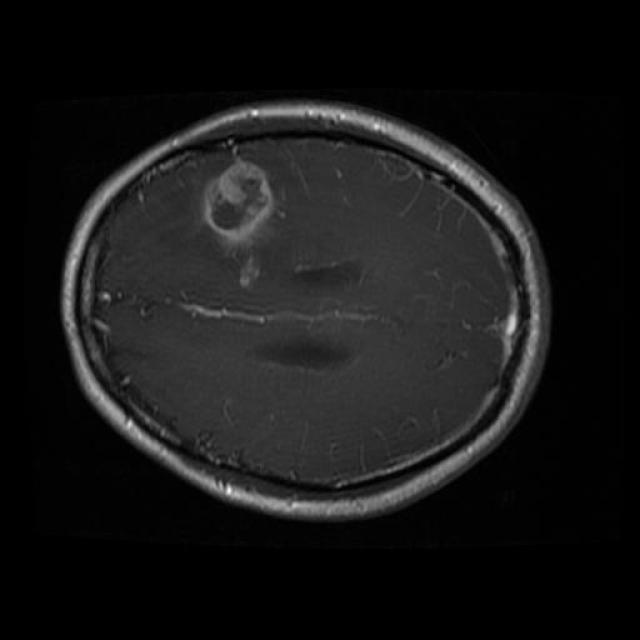Glioma: (203, 157, 275, 286)
